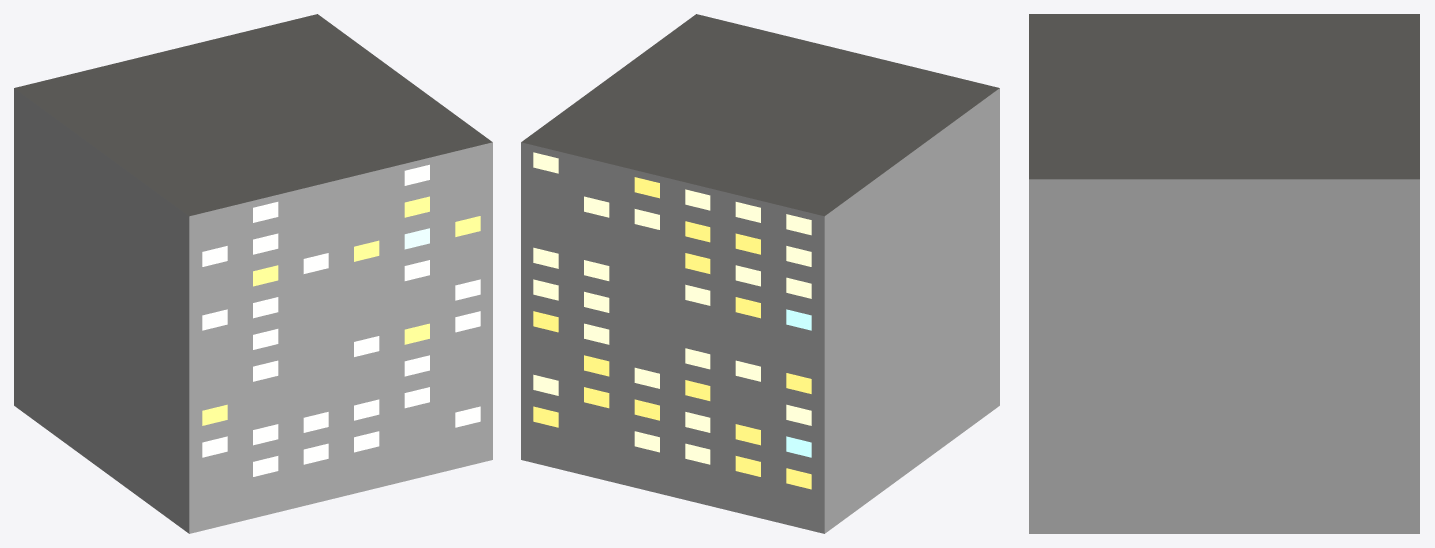
File: city-block-lit-10.glb
3 renders of one model, left to right at view 1: azimuth 30°, elevation 25°; view 2: azimuth 150°, elevation 25°; view 3: azimuth 270°, elevation 25°, orthographic. The views are drawn at different scales.
Parts seen in each view (by area): view 1: city_block, window warm, window amber; view 2: city_block, window warm, window amber, window tv; view 3: city_block.
Boxes of the visible parts, <box> form: city_block: <box>14,14,492,533</box>; window warm: <box>202,164,480,476</box>; window amber: <box>202,196,480,425</box>; city_block: <box>521,14,999,533</box>; window warm: <box>533,152,811,464</box>; window amber: <box>533,177,811,489</box>; window tv: <box>786,309,811,457</box>; city_block: <box>1029,14,1419,533</box>.
Size of the model in its own units: 1 by 1 by 1.
